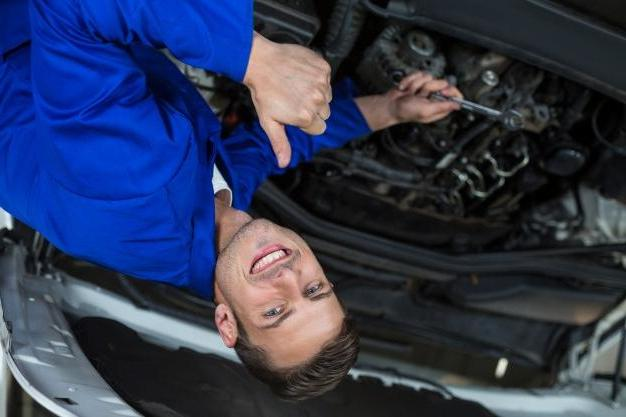thumbsdown: (269, 44, 334, 168)
